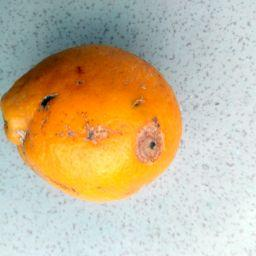Unripe: (3, 45, 185, 199)
